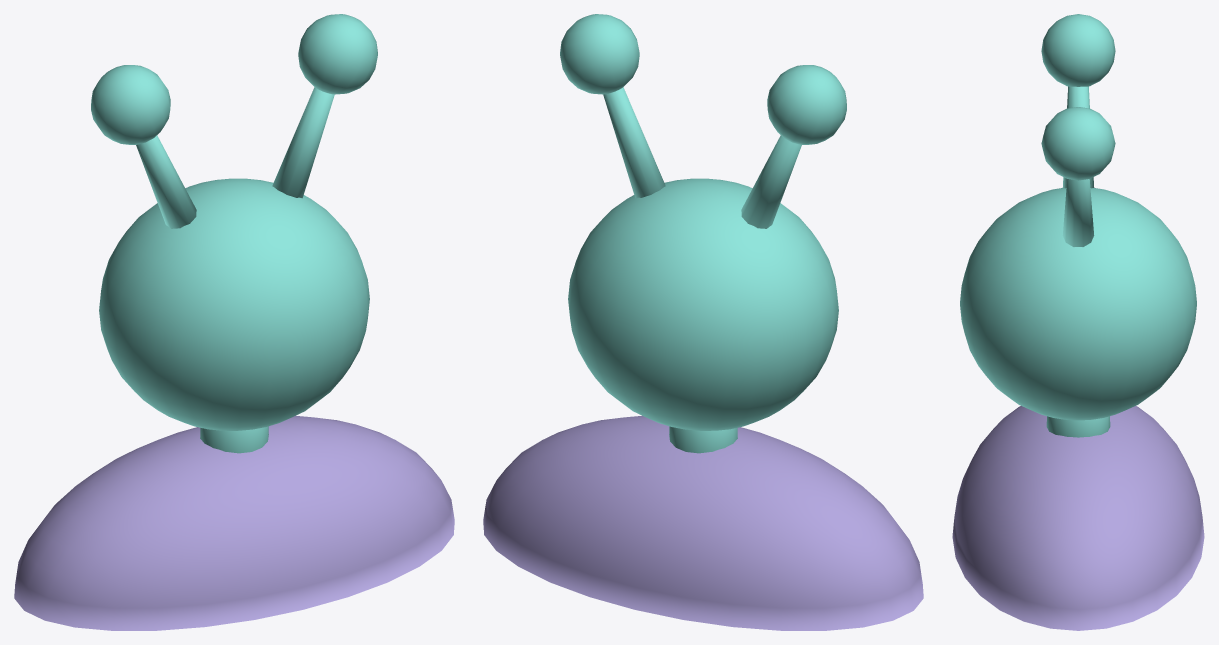
The model's file is head_stalks.glb.
3 renders of one model, left to right at view 1: azimuth 30°, elevation 25°; view 2: azimuth 150°, elevation 25°; view 3: azimuth 270°, elevation 25°, orthographic. The views are drawn at different scales.
Parts seen in each view (by area): view 1: StalksShoulders, StalksHead, StalksStalkRight, StalksStalkLeft; view 2: StalksShoulders, StalksHead, StalksStalkRight, StalksStalkLeft; view 3: StalksShoulders, StalksHead, StalksStalkRight, StalksStalkLeft.
Part boxes in pixels (x1,y1,x2,y2): StalksShoulders: (14, 415, 454, 630); StalksHead: (99, 178, 369, 430); StalksStalkRight: (272, 14, 377, 198); StalksStalkLeft: (91, 65, 196, 228); StalksShoulders: (483, 415, 923, 630); StalksHead: (568, 178, 838, 430); StalksStalkRight: (560, 14, 665, 198); StalksStalkLeft: (741, 65, 846, 228); StalksShoulders: (952, 406, 1204, 630); StalksHead: (960, 188, 1196, 420); StalksStalkRight: (1041, 107, 1115, 246); StalksStalkLeft: (1041, 14, 1115, 188).
Size of the model in its own units: 0.6 by 0.704 by 0.34.
